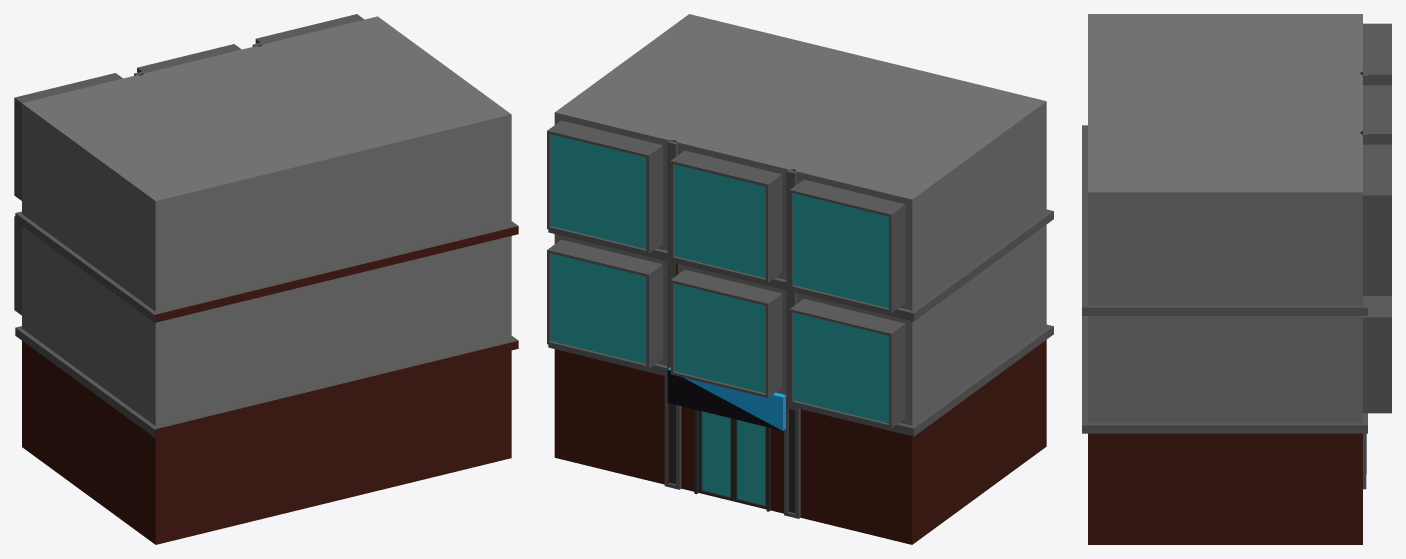
File: Himik_Street_Prop_Building_5.fbx
3 renders of one model, left to right at view 1: azimuth 30°, elevation 25°; view 2: azimuth 150°, elevation 25°; view 3: azimuth 270°, elevation 25°, orthographic. The views are drawn at different scales.
Parts seen in each view (by area): view 1: PropBulding4_Body; view 2: PropBulding4_Body, PropBulding4_Body.001, Cube.010; view 3: PropBulding4_Body.
Part boxes in pixels (x1,y1,x2,y2): PropBulding4_Body: [14, 14, 518, 544]; PropBulding4_Body: [547, 14, 1053, 544]; PropBulding4_Body.001: [698, 410, 766, 509]; Cube.010: [667, 367, 785, 430]; PropBulding4_Body: [1082, 14, 1391, 544].
Size of the model in its own units: 2282 by 1638 by 2059.
3 materials, 3 textured.
